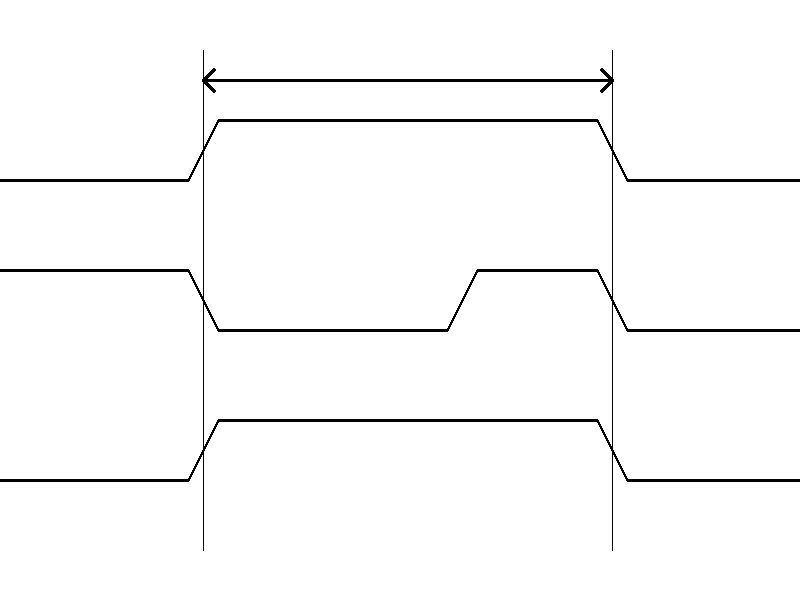double_arrow: (203, 65, 612, 95)
